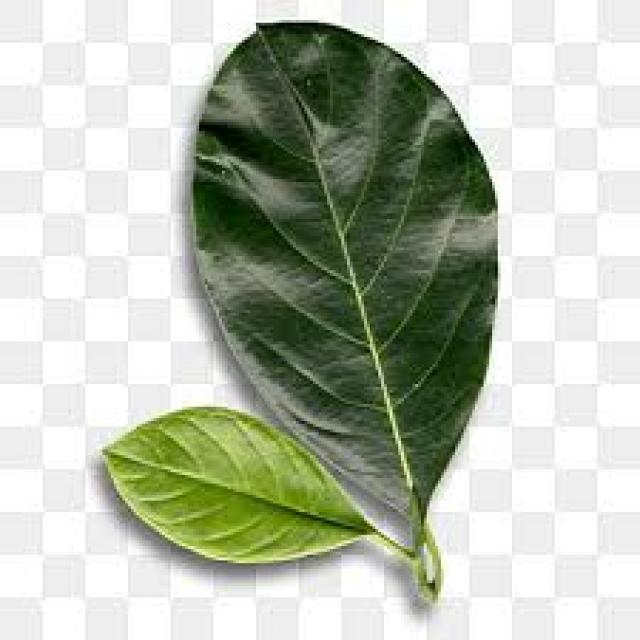leaf: (187, 19, 499, 600)
